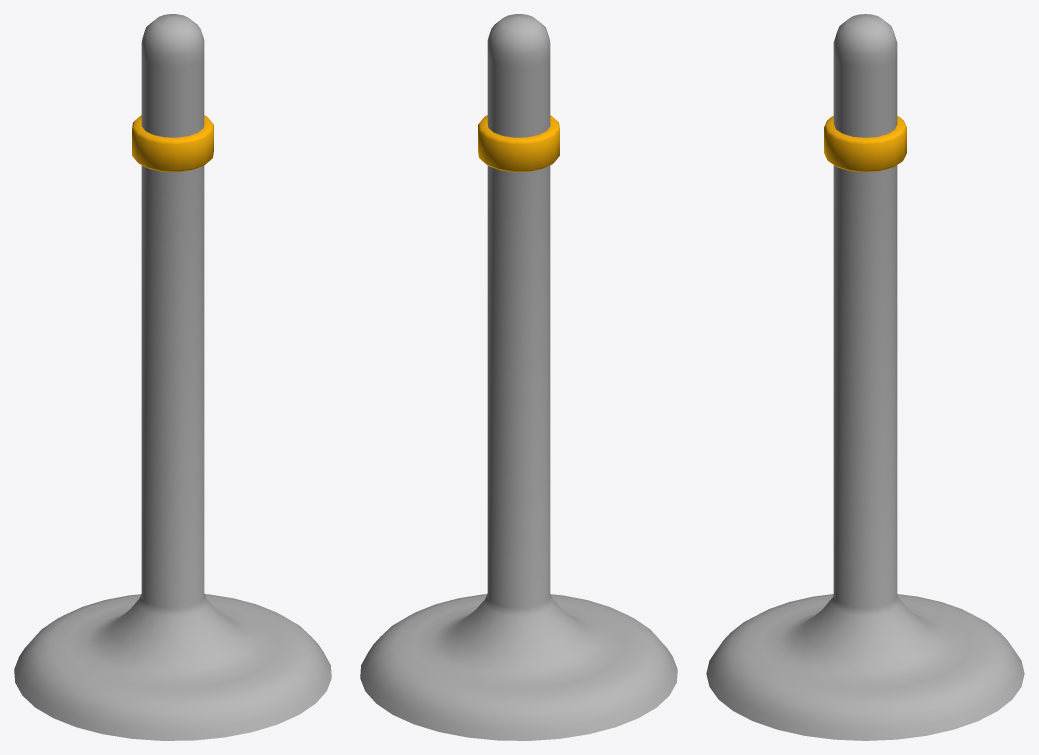
File: barrier_stand_mesh.fbx
The picture shows the model from 3 angles, left to right: view 1: azimuth 30°, elevation 25°; view 2: azimuth 150°, elevation 25°; view 3: azimuth 270°, elevation 25°; orthographic projection.
Visible parts, largest first — view 1: barrier_stand:barrier_stand; view 2: barrier_stand:barrier_stand; view 3: barrier_stand:barrier_stand.
Boxes of the visible parts, <box> form: barrier_stand:barrier_stand: <box>14,14,331,740</box>; barrier_stand:barrier_stand: <box>360,14,677,740</box>; barrier_stand:barrier_stand: <box>706,14,1024,740</box>.
Size of the model in its own units: 0.4444 by 1.01 by 0.4444.
